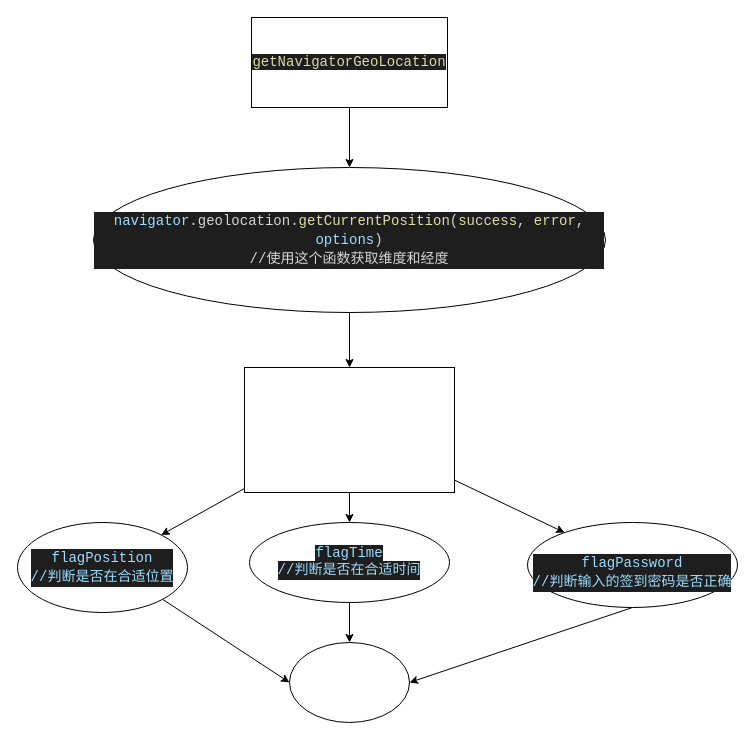
Image size: 755x740. Some labels were removed from this diagram. Here are the shapes that lost their labels. From the top down, the centre of each, then its label:
At [349,429]: "flagRightSign".
At [349,682]: "flagAll".
